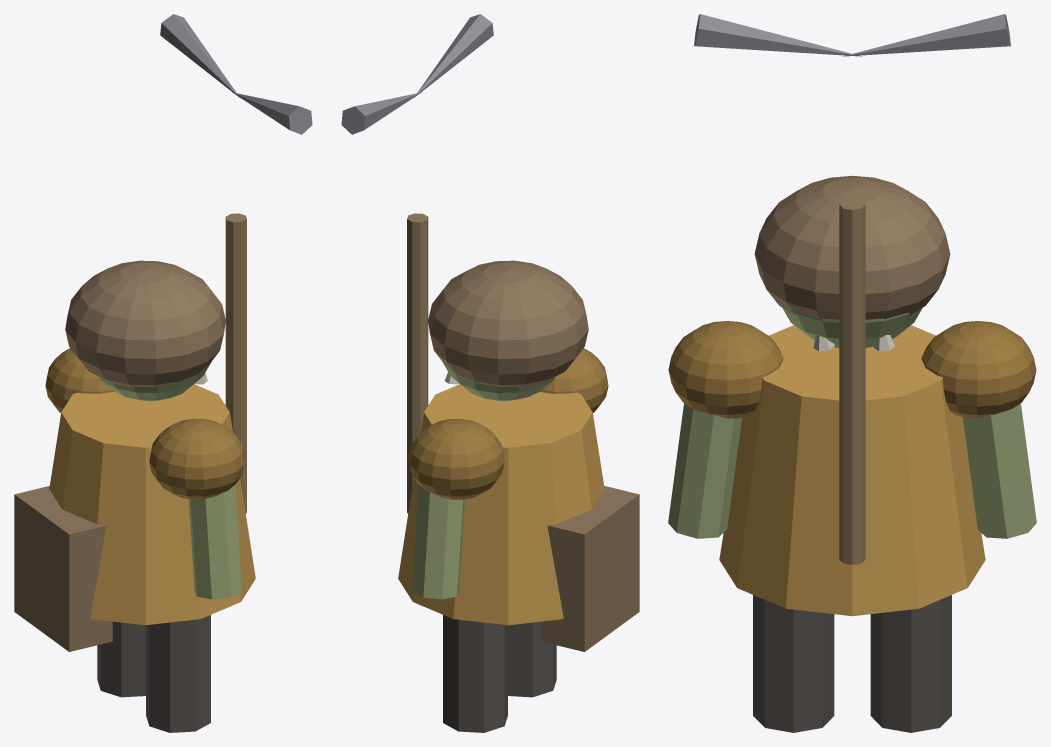
File: hero_durgar_3.glb
The picture shows the model from 3 angles, left to right: view 1: azimuth 30°, elevation 25°; view 2: azimuth 150°, elevation 25°; view 3: azimuth 270°, elevation 25°; orthographic projection. The views are drawn at different scales.
Parts seen in each view (by area): view 1: figurka; view 2: figurka; view 3: figurka.
Part boxes in pixels (x1,y1,x2,y2): figurka: [14, 14, 312, 732]; figurka: [341, 14, 639, 732]; figurka: [668, 14, 1036, 732].
Size of the model in its own units: 0.476 by 1.37 by 0.6121.
